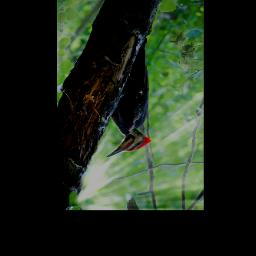Woodpecker: (105, 37, 153, 158)
